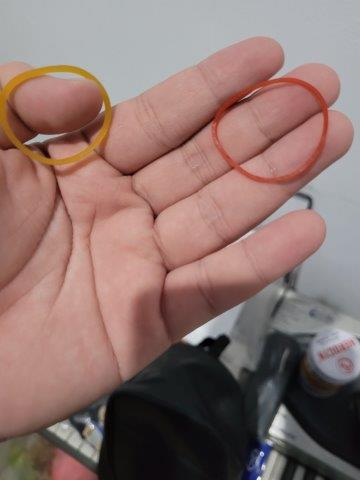karet: (211, 76, 329, 183), (1, 63, 113, 165)
